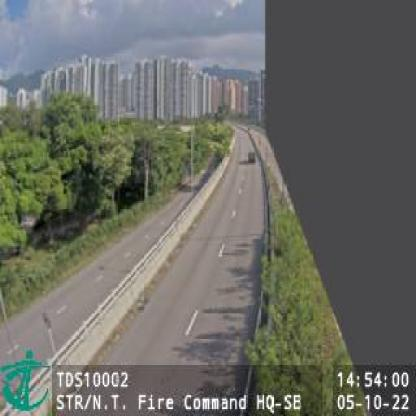Car: (248, 151, 255, 161)
